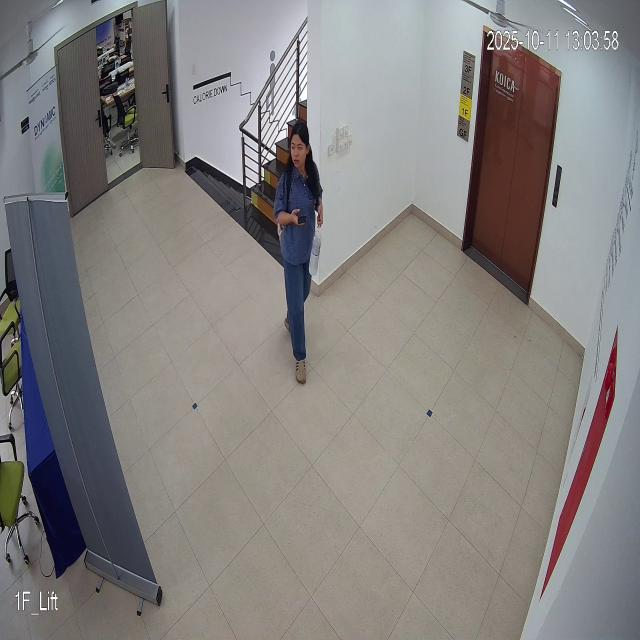face: (284, 114, 315, 178)
